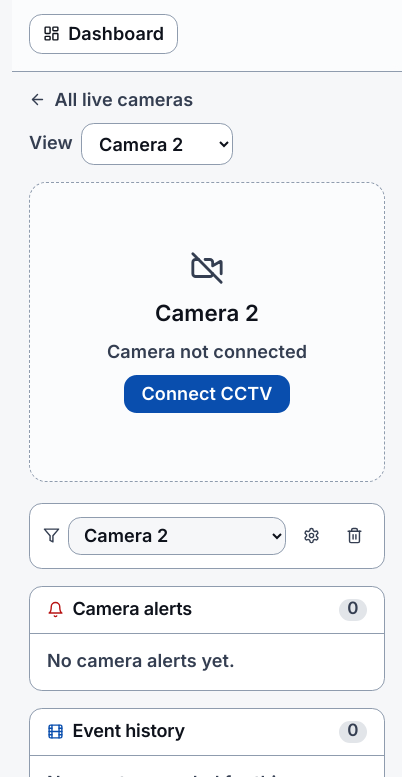
shared live camera views › opens the matching dashboard connection slot for an offline camera
This screenshot has width=402, height=777.
Click the button "Camera 2 Camera not connected Connect CCTV": (50, 332) [29,182,385,482]
(page scrolled)
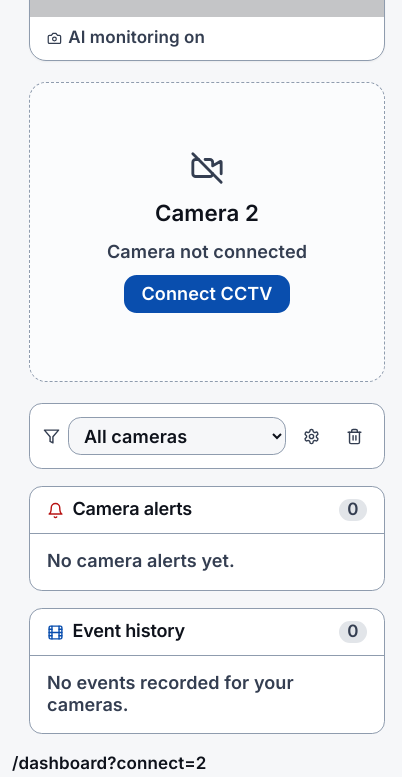
Now the text with test id "location" reads "/dashboard?connect=2", box [12,754,206,774]
